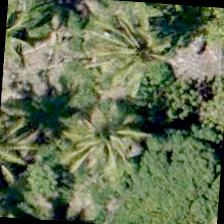Kelapa_Sawit: (80, 10, 176, 106), (51, 106, 147, 202), (2, 0, 56, 79)
